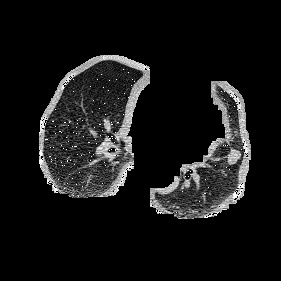PN: (227, 150, 241, 164)
